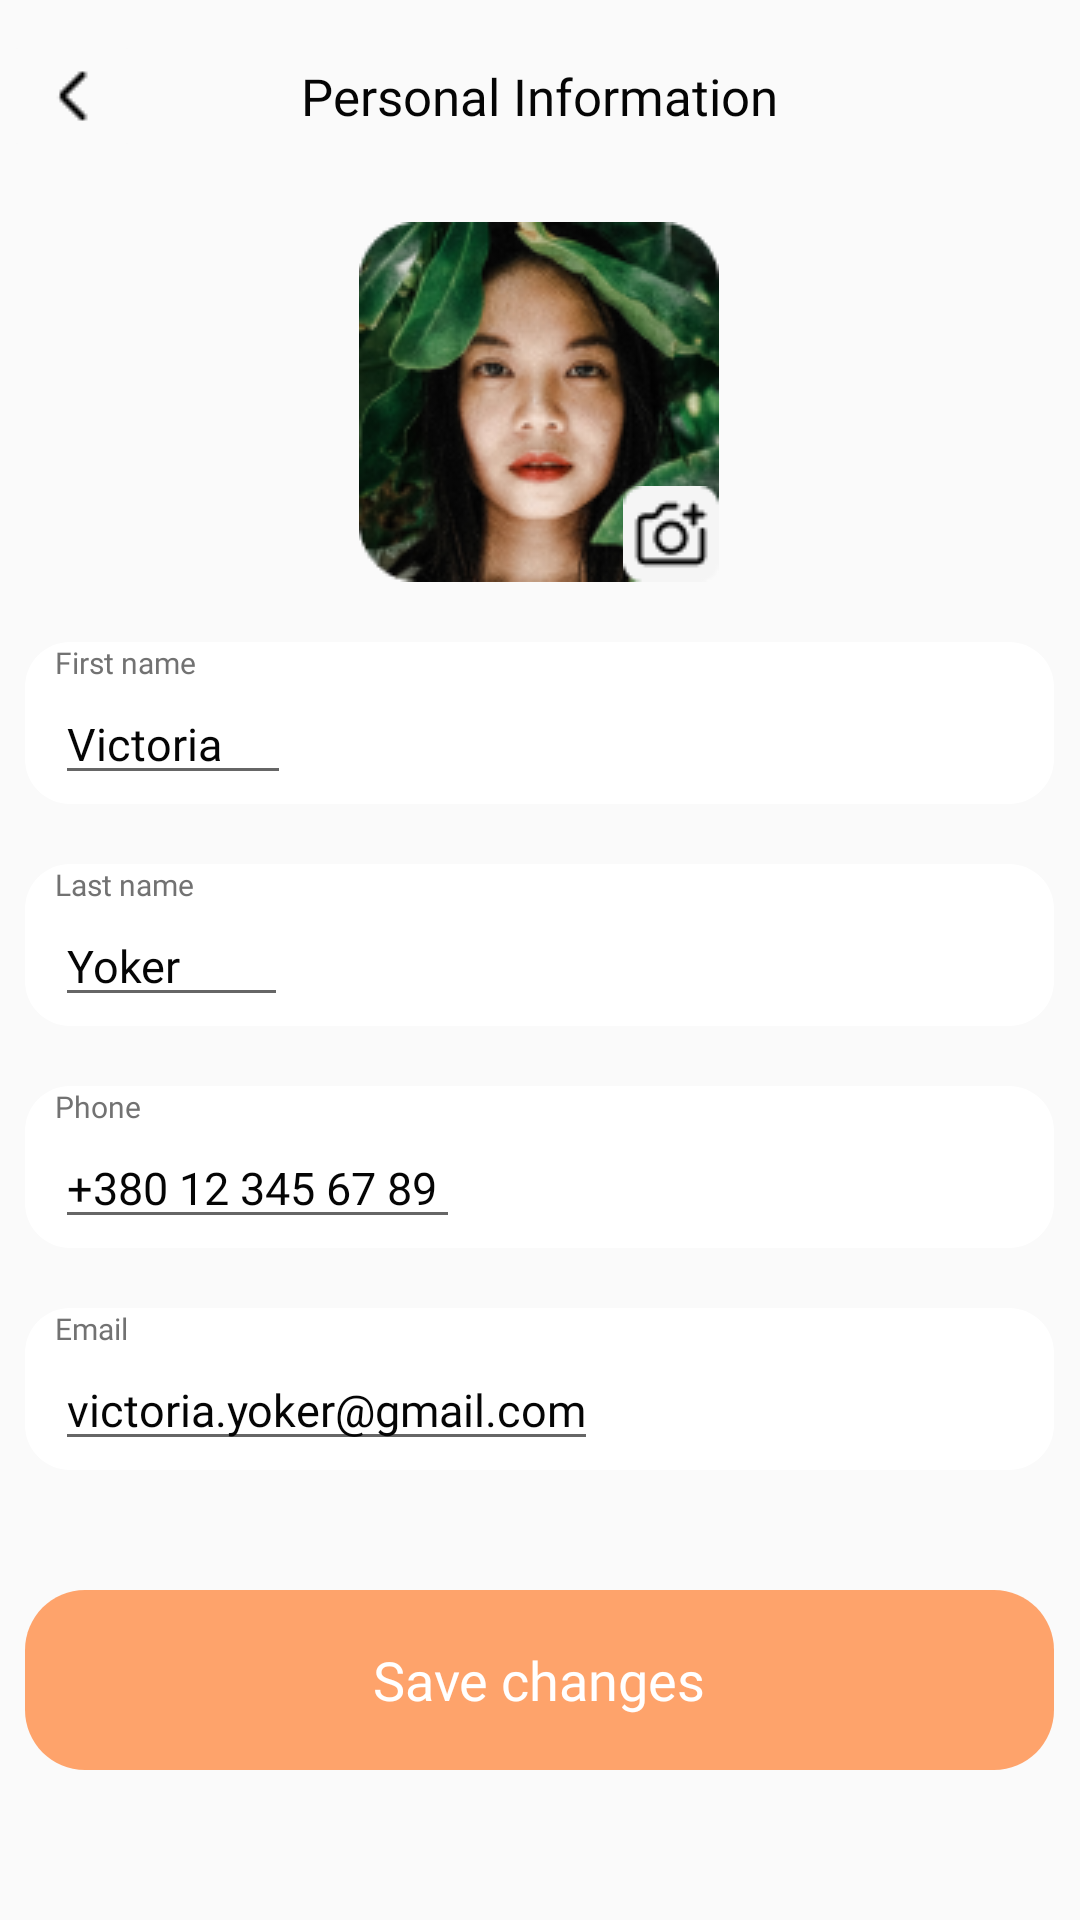

Where to tap for icons on this 1080w x 1920h app screen, as [x,y]:
Back: [73,96]
Camera Button: [671,534]
